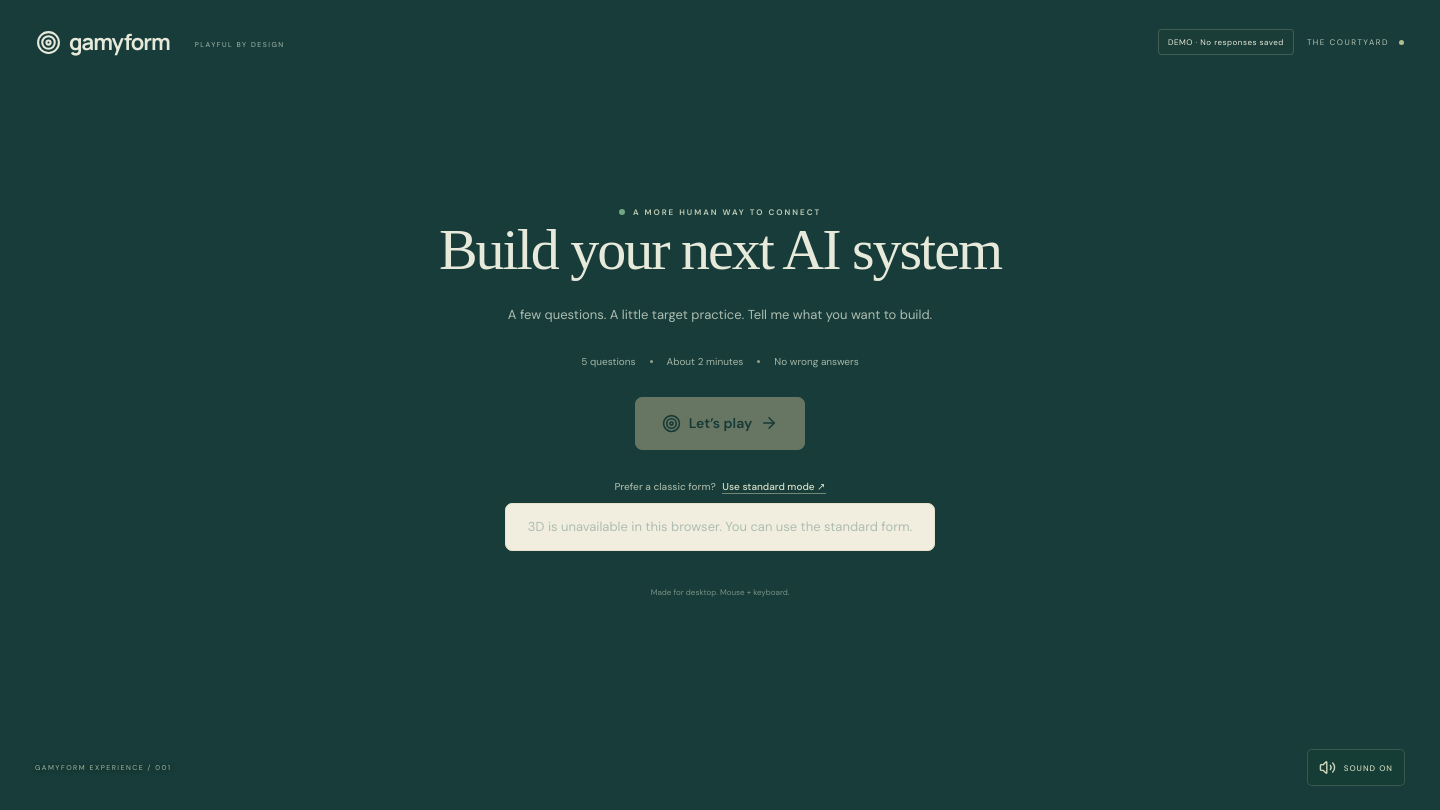
Test: cannot skip twice when an optional choice is transitioning
Click the button "Prefer a classic form? Use standard mode ↗" at (720, 486), box [602,470,839,502]
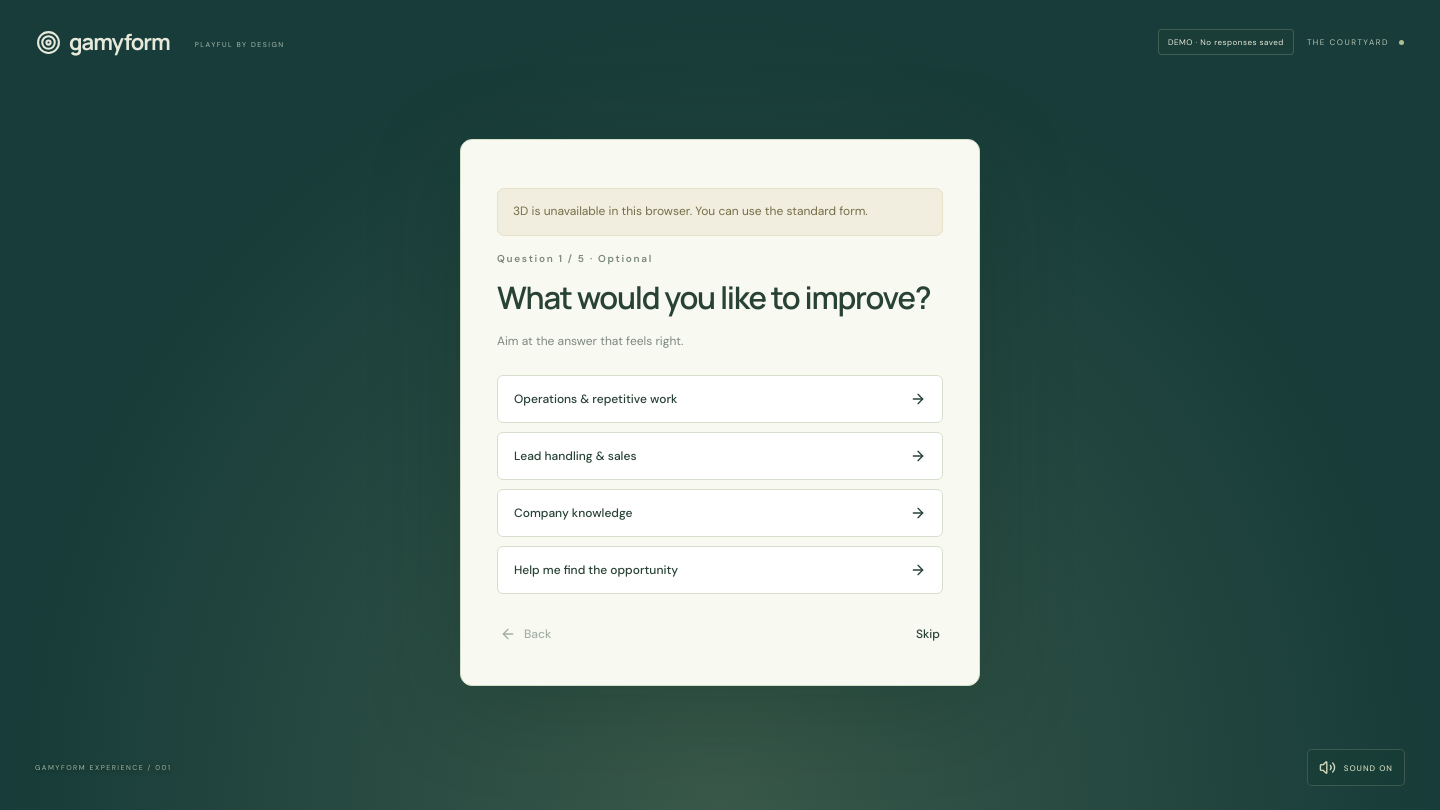
Now the heading "What would you like to improve?" is shown, box [497,279,943,316]
Click the button "Operations & repetitive work" at (596, 399), box [497,375,943,423]
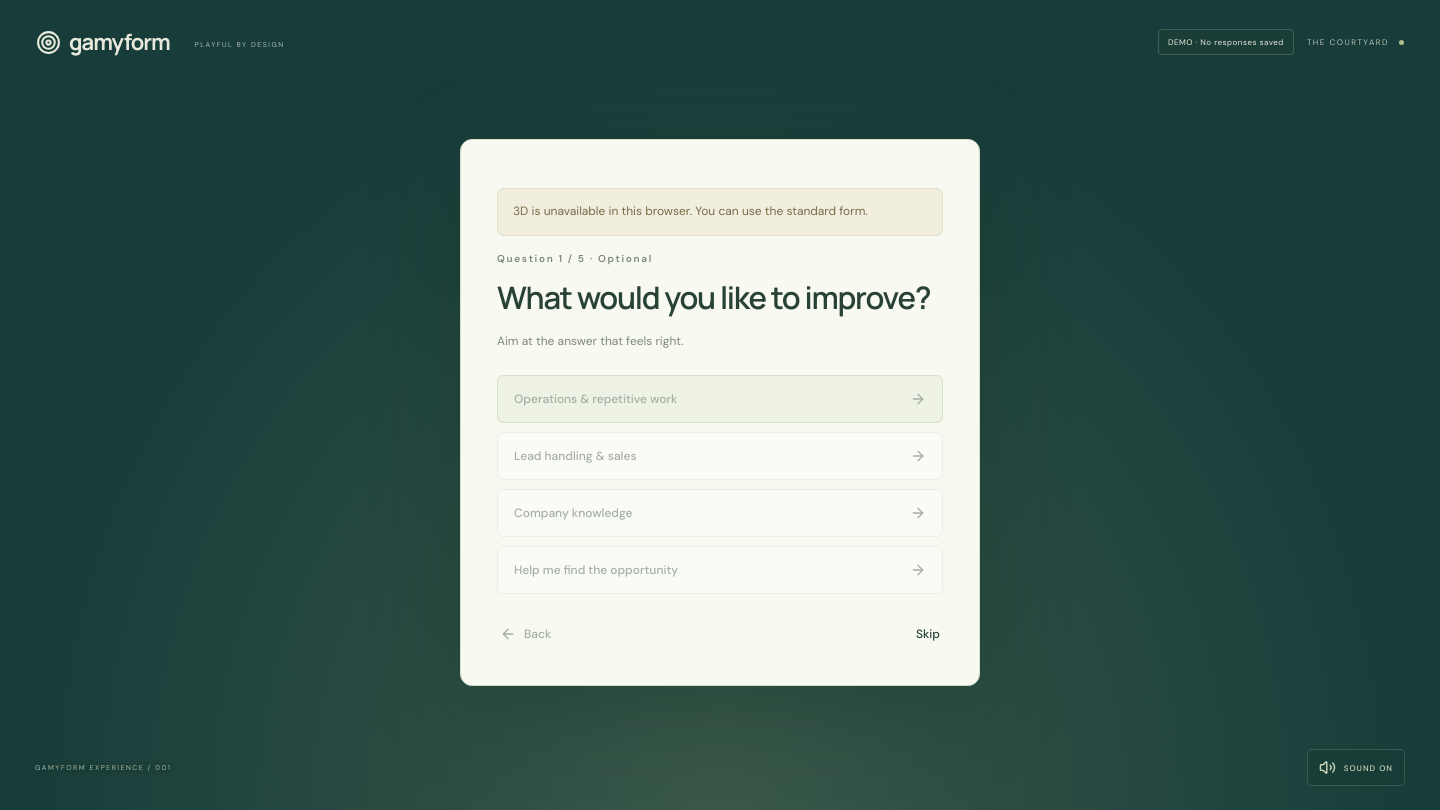
Click the button "Skip" at (928, 634), box [913,619,943,649]
Wait 350 ms
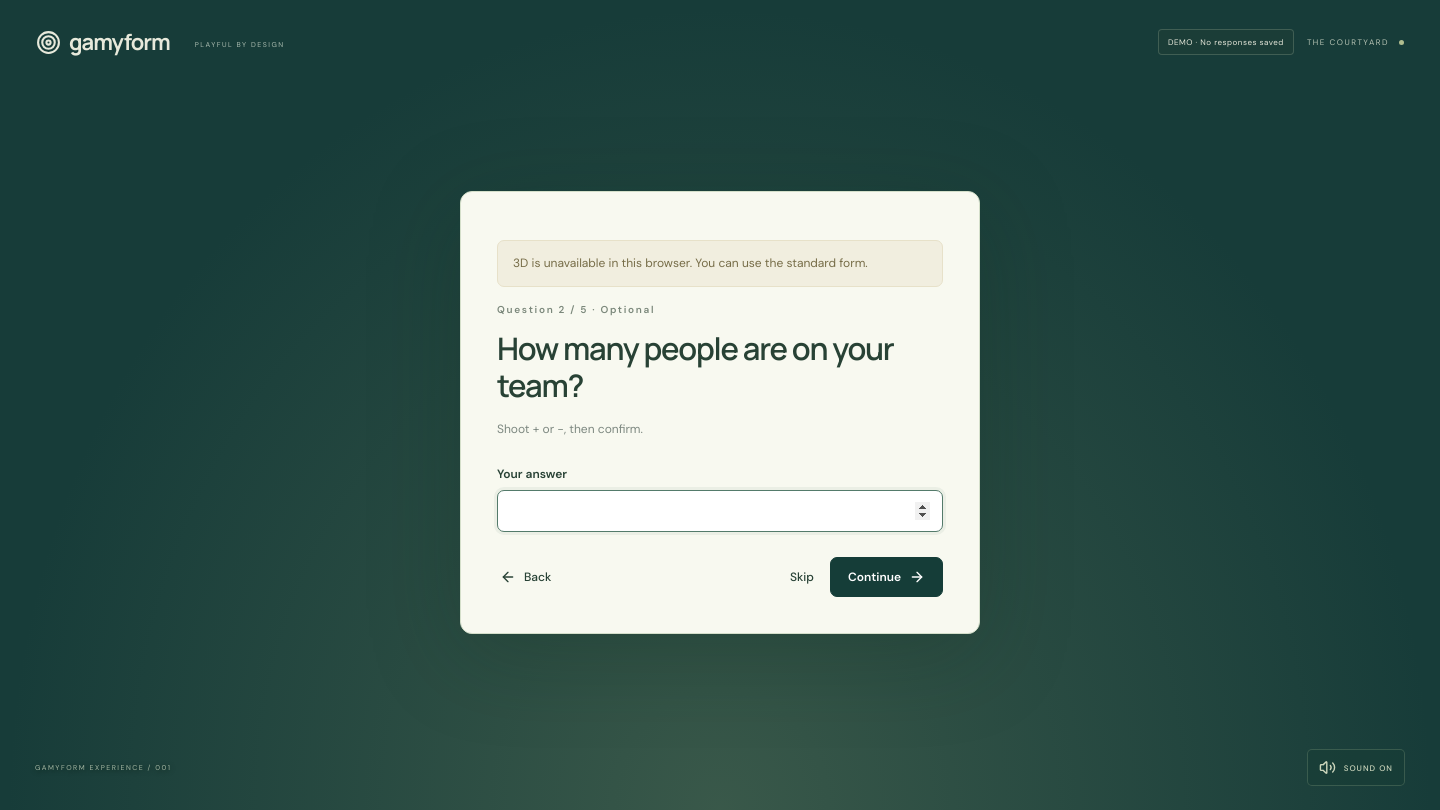
Now the heading "How many people are on your team?" is shown, box [497,330,943,404]
